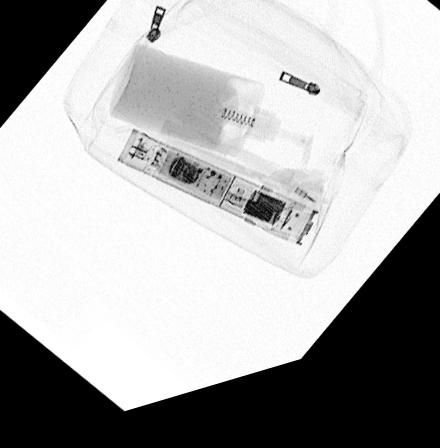Baton: (114, 133, 319, 263)
